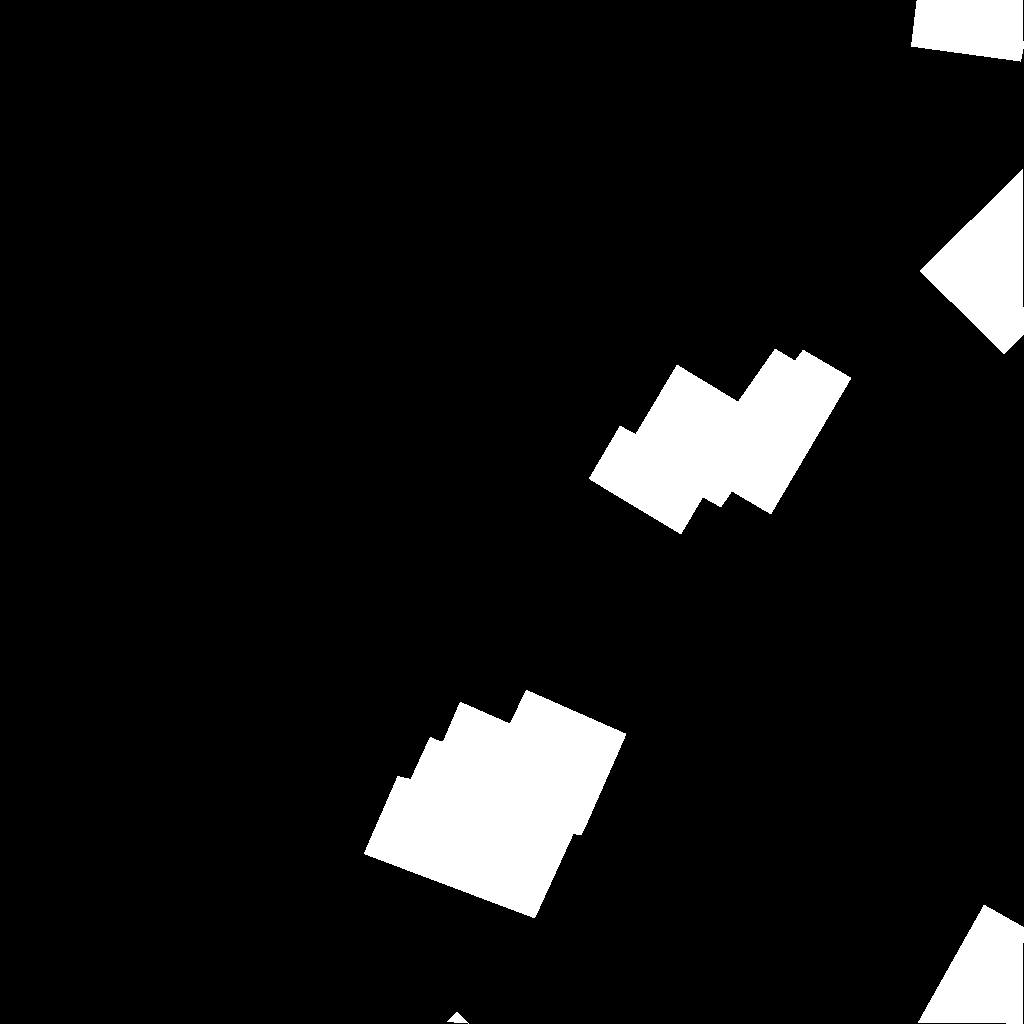building: (364, 690, 627, 919), (589, 349, 852, 535), (920, 169, 1024, 355), (918, 905, 1024, 1024), (911, 0, 1024, 62), (447, 1012, 470, 1024)
